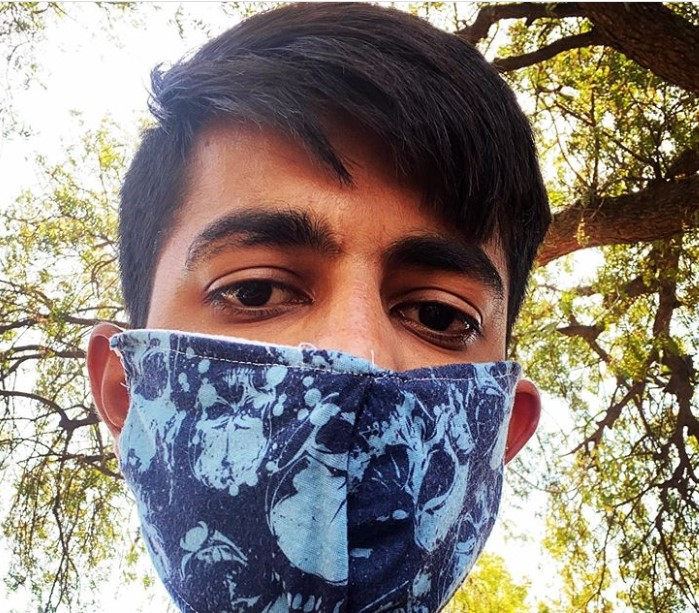face_with_mask: (99, 9, 550, 607)
